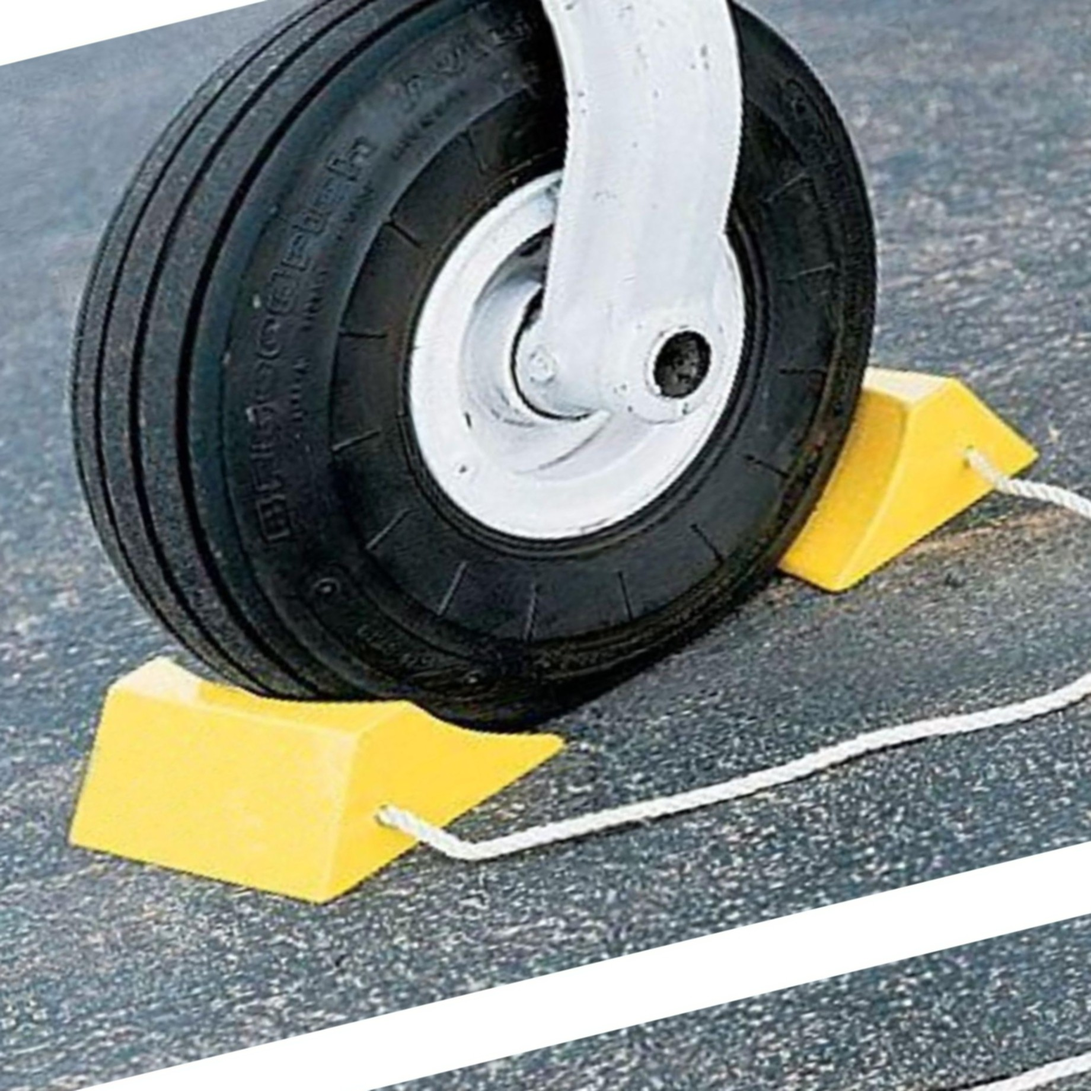chock: (27, 569, 586, 960), (647, 316, 1065, 627)
wheel: (0, 0, 983, 825)
